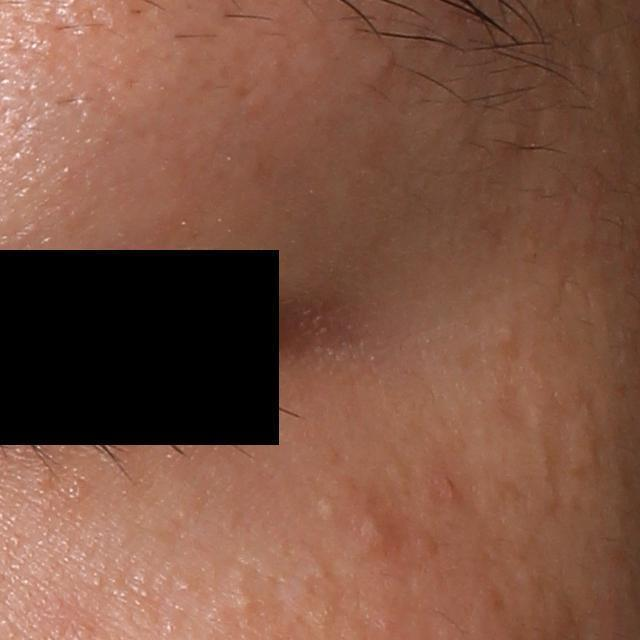comedo: (229, 591, 256, 614), (498, 323, 517, 344)
